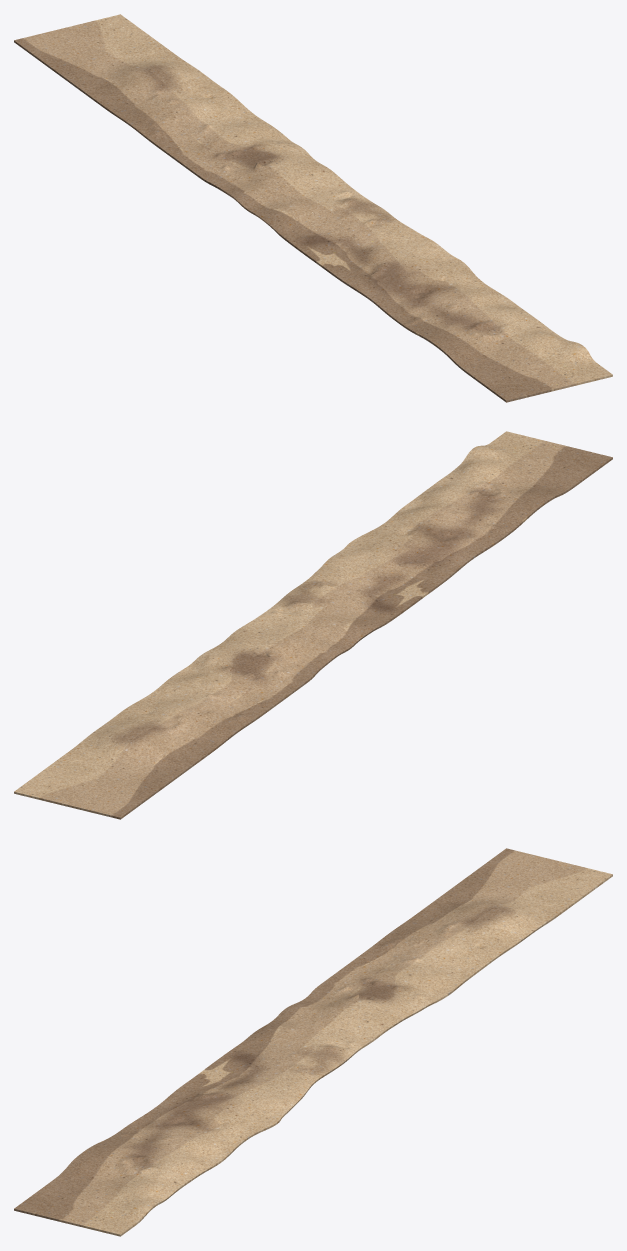
File: ground.fbx
3 renders of one model, top to bottom at view 1: azimuth 30°, elevation 25°; view 2: azimuth 150°, elevation 25°; view 3: azimuth 330°, elevation 25°, orthographic.
Parts seen in each view (by area): view 1: Sand33_GEO; view 2: Sand33_GEO; view 3: Sand33_GEO.
Part boxes in pixels (x1,y1,x2,y2): Sand33_GEO: [14, 14, 612, 402]; Sand33_GEO: [14, 431, 612, 819]; Sand33_GEO: [14, 848, 612, 1236].
Bounding box in the file's own units: 3.88 × 0.4164 × 30.
1 material, 1 textured.
